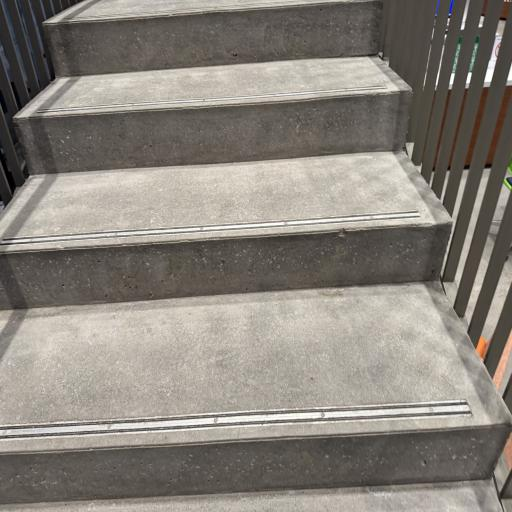Stairs: (0, 0, 512, 512), (0, 282, 511, 502), (0, 151, 451, 309), (13, 57, 412, 174), (44, 0, 381, 76), (0, 480, 502, 512)
